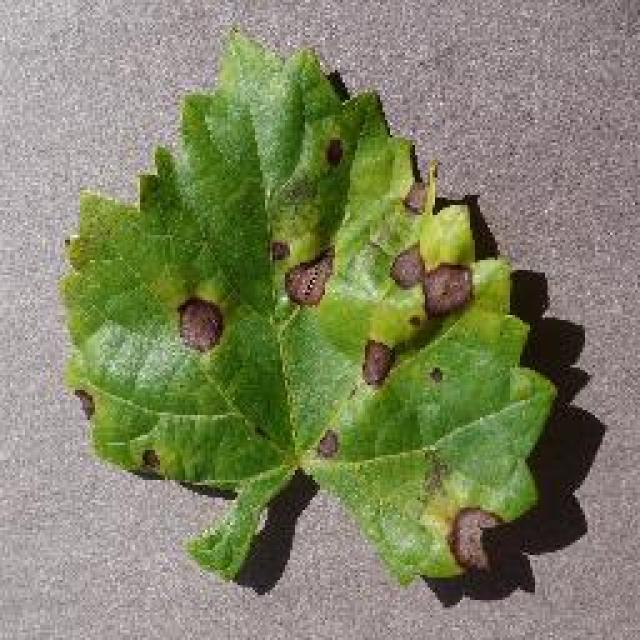Grape___Black_rot: (62, 29, 569, 590)
